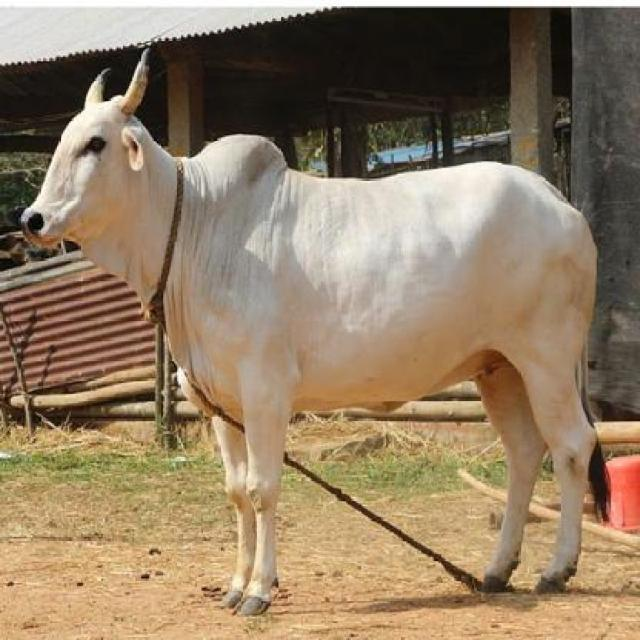Cow: (18, 48, 611, 615)
